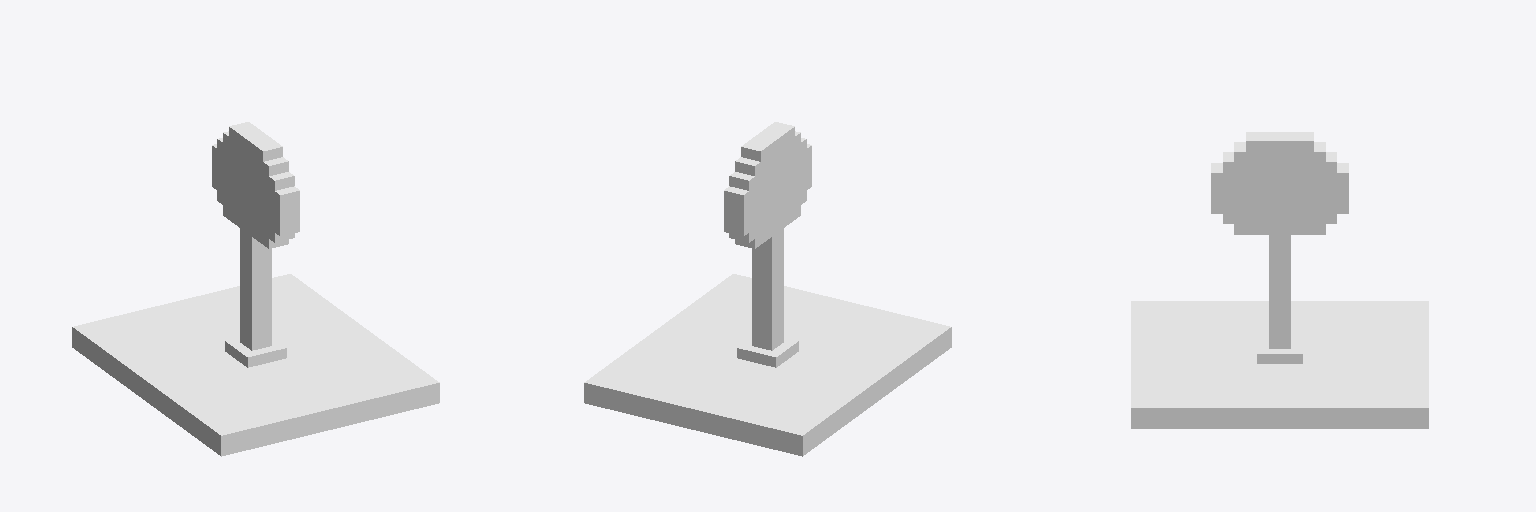
The model's file is DeliveryRoof.obj.
3 renders of one model, left to right at view 1: azimuth 30°, elevation 25°; view 2: azimuth 150°, elevation 25°; view 3: azimuth 270°, elevation 25°, orthographic.
Parts seen in each view (by area): view 1: DeliveryRoof; view 2: DeliveryRoof; view 3: DeliveryRoof.
Part boxes in pixels (left/top/right/bottom): DeliveryRoof: left=72, top=122, right=439, bottom=456; DeliveryRoof: left=584, top=122, right=951, bottom=456; DeliveryRoof: left=1131, top=132, right=1428, bottom=428.
Bounding box in the file's own units: 22 × 23 × 26.